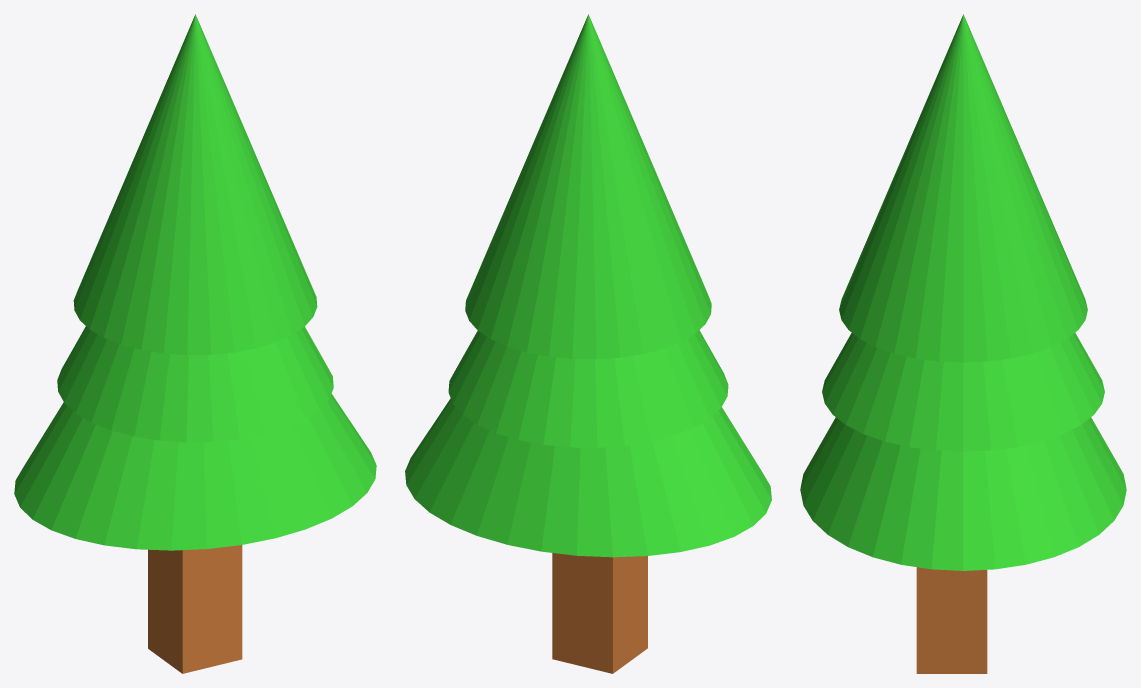
Rendered from my-tree.glb.
3 views of the same model, side by side, from view 1: azimuth 30°, elevation 25°; view 2: azimuth 150°, elevation 25°; view 3: azimuth 270°, elevation 25° (orthographic). The views are drawn at different scales.
Visible parts, largest first — view 1: Cone.002, Cone, Cone.001, Cube.001; view 2: Cone.002, Cone, Cone.001, Cube.001; view 3: Cone.002, Cone, Cone.001, Cube.001.
Part boxes in pixels (box(x1,y1,x2,y2)): Cone.002: box(73, 14, 317, 354); Cone: box(14, 393, 376, 550); Cone.001: box(57, 326, 333, 442); Cube.001: box(148, 545, 242, 673); Cone.002: box(465, 14, 711, 359); Cone: box(405, 398, 771, 557); Cone.001: box(448, 330, 728, 447); Cube.001: box(552, 553, 647, 673); Cone.002: box(839, 14, 1087, 362); Cone: box(800, 417, 1126, 570); Cone.001: box(822, 333, 1104, 451); Cube.001: box(916, 567, 987, 673).
Size of the model in its own units: 0.5442 by 1.01 by 0.4621.
